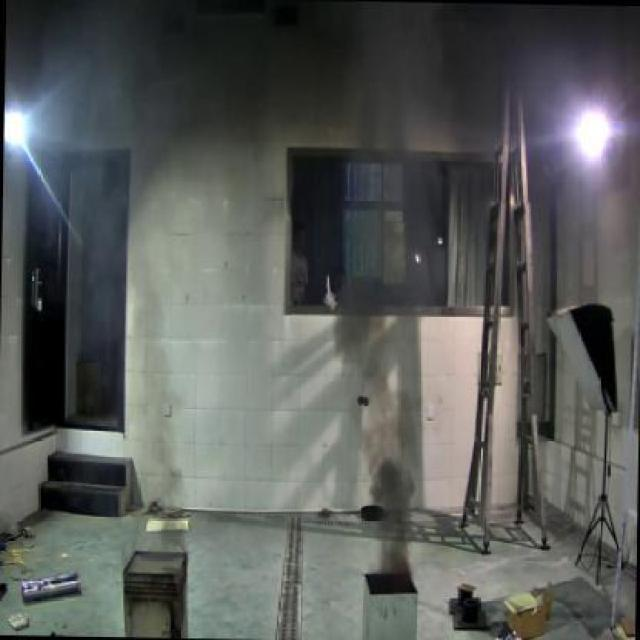fire: (330, 277, 421, 574)
